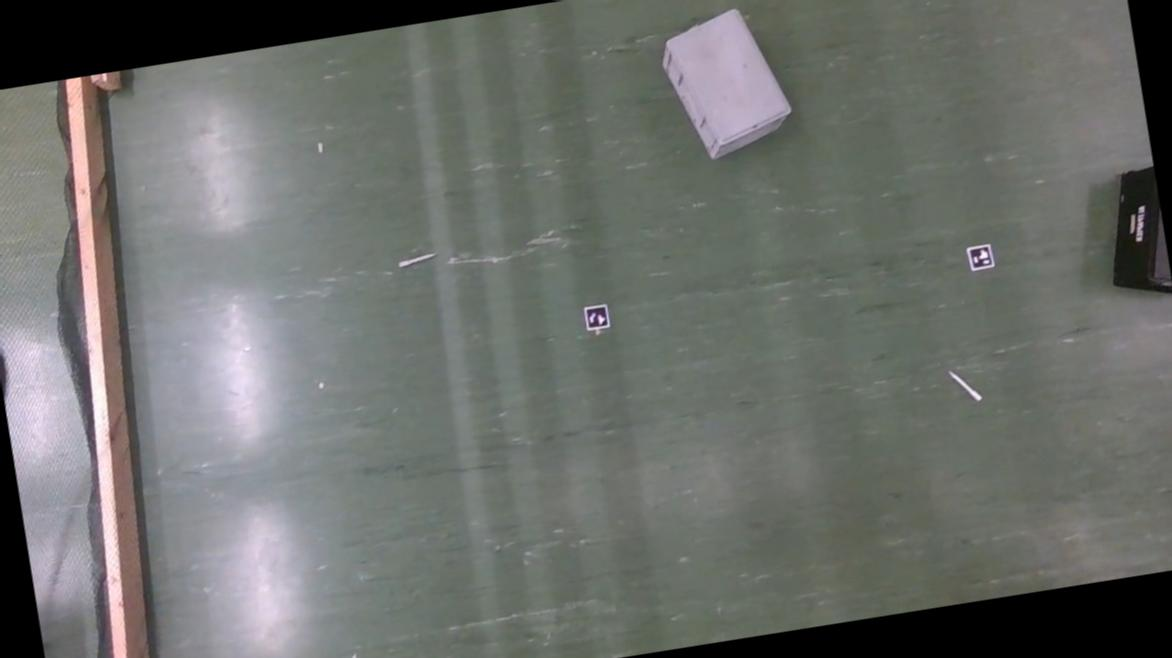probes: (949, 366, 983, 405), (398, 250, 437, 266)
rako: (653, 0, 797, 167), (1094, 161, 1172, 309)
